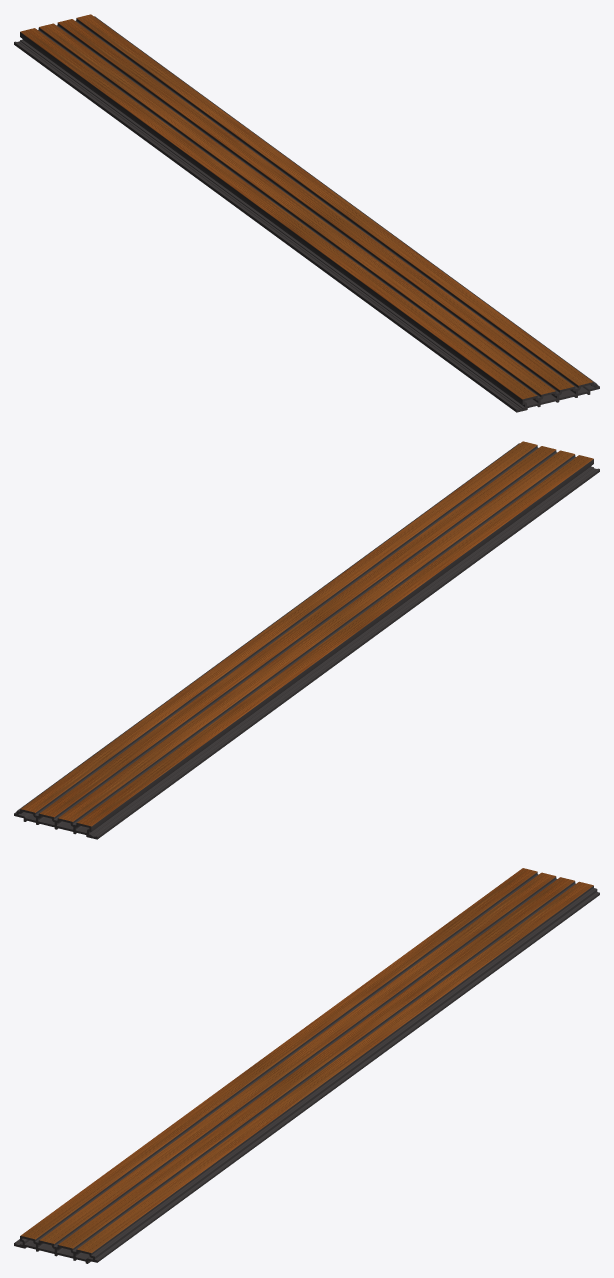
File: decking.glb
3 views of the same model, one above another, from view 1: azimuth 30°, elevation 25°; view 2: azimuth 150°, elevation 25°; view 3: azimuth 330°, elevation 25° (orthographic).
Parts seen in each view (by area): view 1: 对象004, Line2321; view 2: 对象004, Line2321; view 3: 对象004, Line2321.
Boxes of the visible parts, bbox=[...] form: 对象004: bbox=[20, 14, 592, 399]; Line2321: bbox=[14, 16, 599, 412]; 对象004: bbox=[21, 441, 593, 826]; Line2321: bbox=[14, 443, 599, 839]; 对象004: bbox=[21, 868, 593, 1252]; Line2321: bbox=[14, 872, 599, 1263].
Size of the model in its own units: 0.192 by 0.026 by 2.
Materials: 2 (1 with a texture image).
